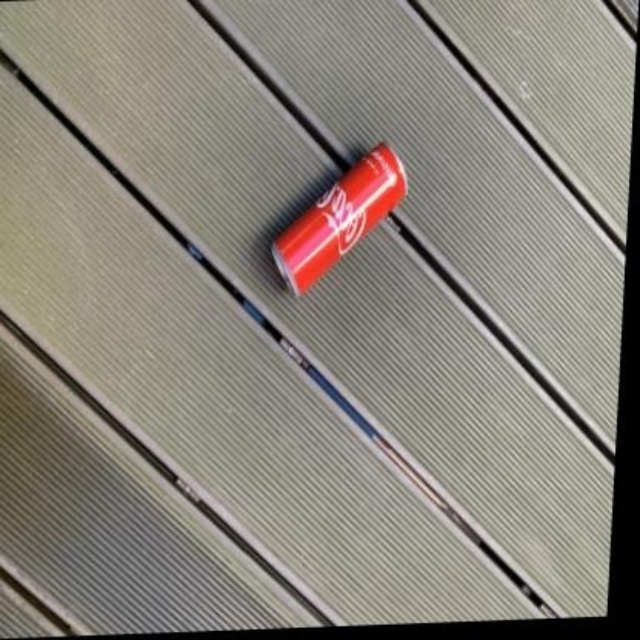trash: (271, 143, 406, 294)
